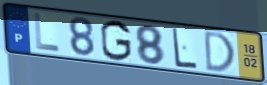8: (135, 24, 168, 66), (66, 16, 96, 58)
D: (203, 28, 236, 73)
G: (99, 18, 133, 63)
L: (33, 11, 62, 54), (171, 27, 199, 71)
